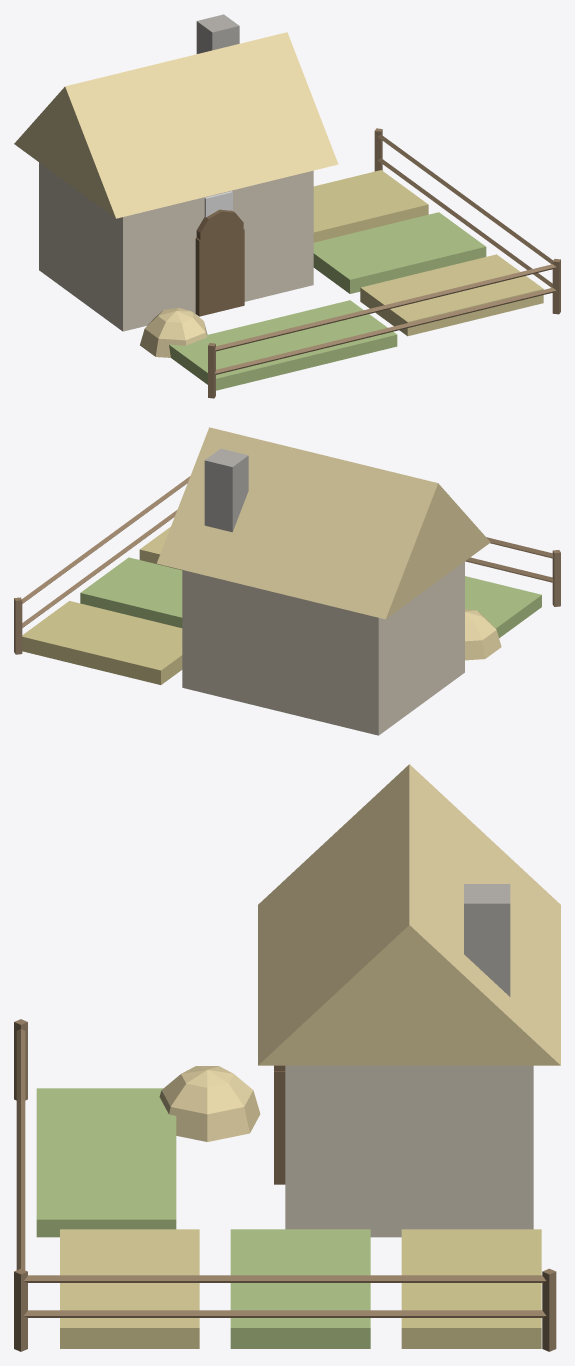
The picture shows the model from 3 angles, top to bottom: view 1: azimuth 30°, elevation 25°; view 2: azimuth 150°, elevation 25°; view 3: azimuth 270°, elevation 25°; orthographic projection. The views are drawn at different scales.
Visible parts, largest first — view 1: body; view 2: body; view 3: body.
Part boxes in pixels (box(x1,y1,x2,y2)): body: box(14, 14, 560, 398); body: box(14, 427, 560, 735); body: box(14, 764, 560, 1351).
Size of the model in its own units: 8.04 by 4.6 by 7.04.
